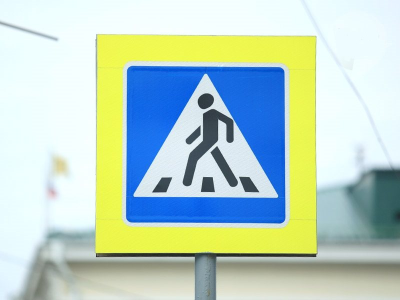crosswalk: (124, 63, 291, 226)
